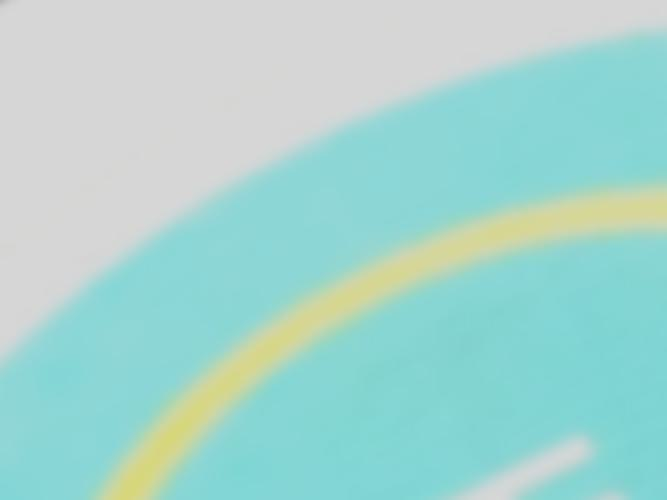Apron: (367, 291, 643, 493)
